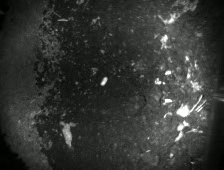corn: (98, 75, 110, 87)
